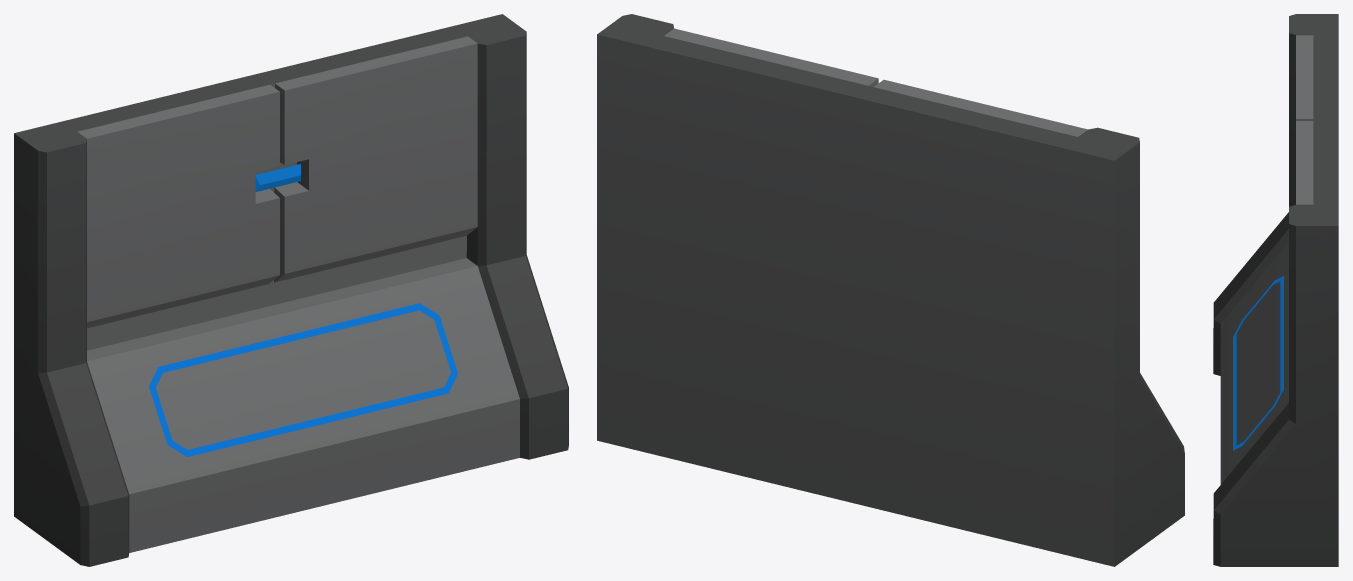
The model's file is Wall_type_B_029.glb.
The picture shows the model from 3 angles, left to right: view 1: azimuth 30°, elevation 25°; view 2: azimuth 150°, elevation 25°; view 3: azimuth 270°, elevation 25°; orthographic projection. The views are drawn at different scales.
Parts seen in each view (by area): view 1: Wall_type_B_029; view 2: Wall_type_B_029; view 3: Wall_type_B_029.
Boxes of the visible parts, x1=… form: Wall_type_B_029: x1=14, y1=14, x2=568, y2=566; Wall_type_B_029: x1=597, y1=14, x2=1184, y2=566; Wall_type_B_029: x1=1213, y1=14, x2=1338, y2=566.
Bounding box in the file's own units: 2 × 1.5 × 0.5.
2 materials, 2 textured.
